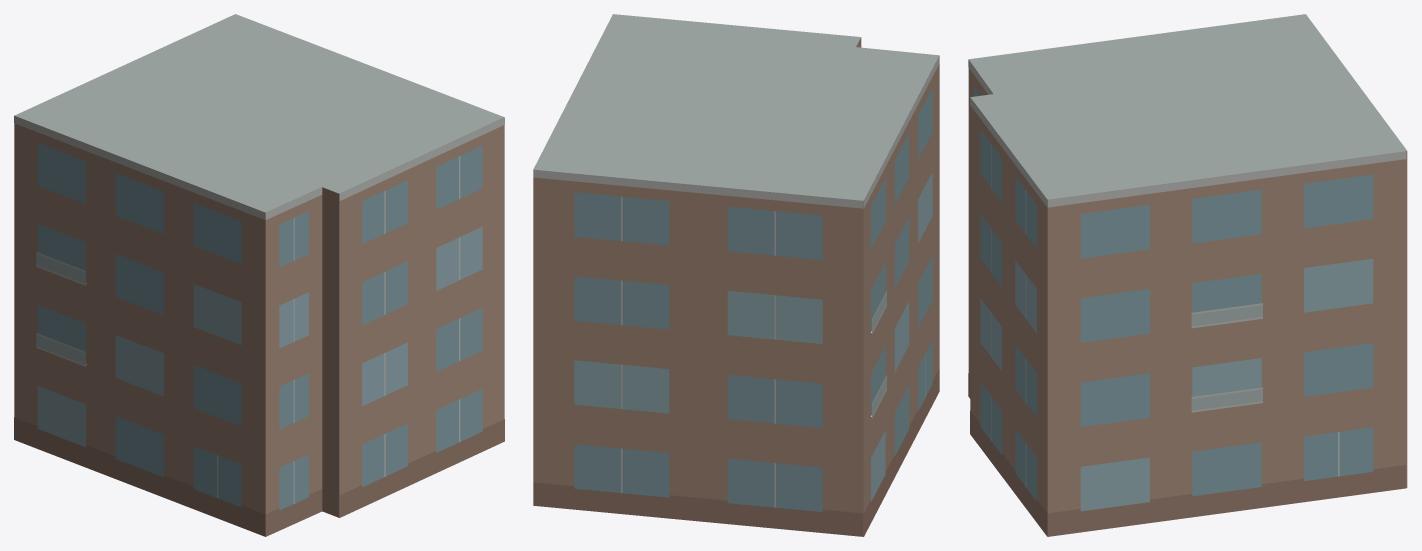
The model's file is survey-upis-33006305.glb.
3 renders of one model, left to right at view 1: azimuth 30°, elevation 25°; view 2: azimuth 150°, elevation 25°; view 3: azimuth 270°, elevation 25°, orthographic. The views are drawn at different scales.
Parts seen in each view (by area): view 1: survey-upis-33006305.tmp; view 2: survey-upis-33006305.tmp; view 3: survey-upis-33006305.tmp.
Part boxes in pixels (x1=…): survey-upis-33006305.tmp: x1=14, y1=14, x2=504, y2=536; survey-upis-33006305.tmp: x1=533, y1=14, x2=939, y2=536; survey-upis-33006305.tmp: x1=968, y1=14, x2=1407, y2=536.
Bounding box in the file's own units: 12.42 × 10.5 × 12.4.
